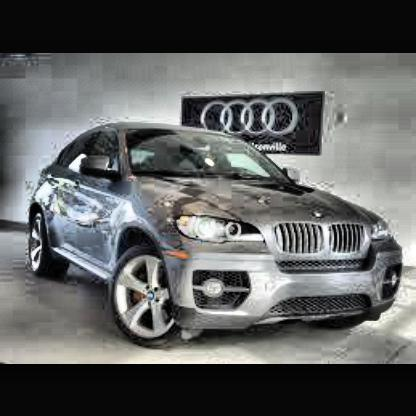BMW X6 SUV 2012: (27, 127, 404, 350)
